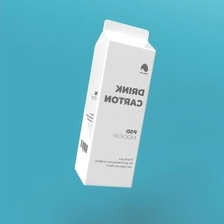carton: (71, 16, 160, 191)
